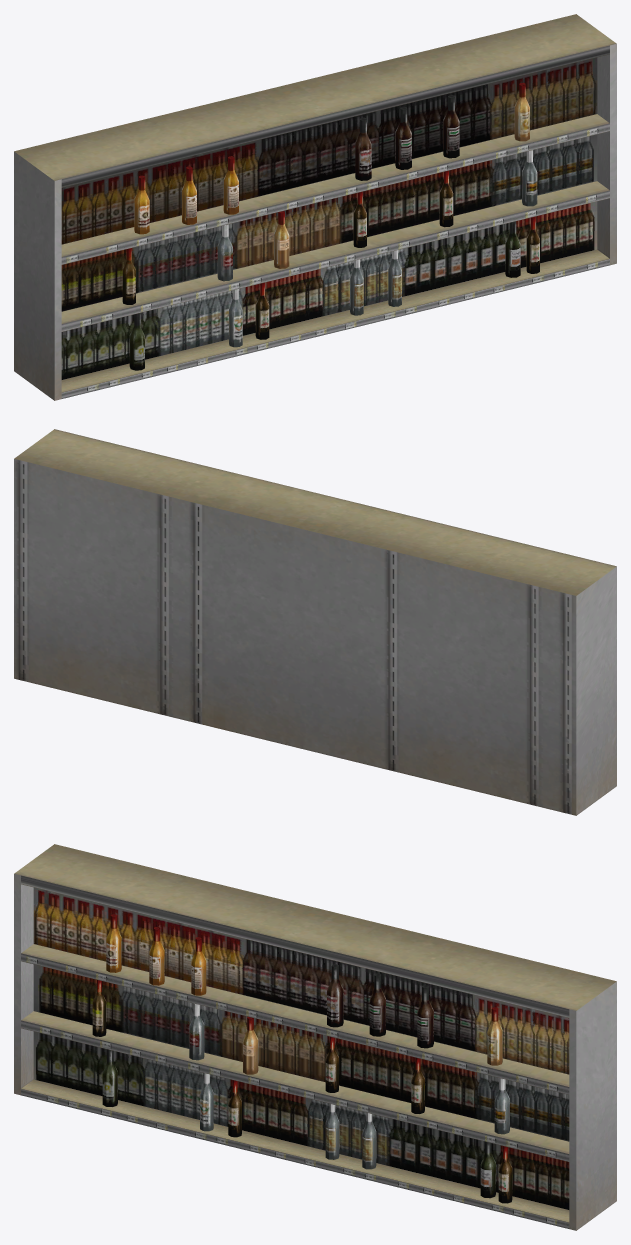
Rendered from wineshelves.fbx.
The picture shows the model from 3 angles, top to bottom: view 1: azimuth 30°, elevation 25°; view 2: azimuth 150°, elevation 25°; view 3: azimuth 330°, elevation 25°; orthographic projection.
Visible parts, largest first — view 1: mesh_0, mesh_1, mesh_2, mesh_7, mesh_8, mesh_4, mesh_6, mesh_3, mesh_5; view 2: mesh_0; view 3: mesh_0, mesh_1, mesh_2, mesh_7, mesh_8, mesh_4, mesh_6, mesh_3, mesh_5.
Part boxes in pixels (left/top/right/bottom): mesh_0: left=14, top=14, right=616, bottom=400; mesh_1: left=61, top=57, right=597, bottom=379; mesh_2: left=122, top=170, right=539, bottom=339; mesh_7: left=355, top=95, right=459, bottom=180; mesh_8: left=134, top=156, right=238, bottom=234; mesh_4: left=229, top=250, right=401, bottom=347; mesh_6: left=274, top=83, right=529, bottom=268; mesh_3: left=129, top=221, right=520, bottom=370; mesh_5: left=217, top=150, right=537, bottom=281; mesh_0: left=14, top=429, right=616, bottom=815; mesh_0: left=14, top=844, right=616, bottom=1230; mesh_1: left=33, top=887, right=569, bottom=1209; mesh_2: left=92, top=980, right=512, bottom=1203; mesh_7: left=327, top=964, right=433, bottom=1048; mesh_8: left=106, top=914, right=206, bottom=995; mesh_4: left=200, top=1073, right=376, bottom=1169; mesh_6: left=243, top=1007, right=502, bottom=1074; mesh_3: left=102, top=1049, right=495, bottom=1198; mesh_5: left=189, top=1003, right=509, bottom=1134.
Bounding box in the file's own units: 400 × 149 × 50.
Materials: 3 (3 with a texture image).
